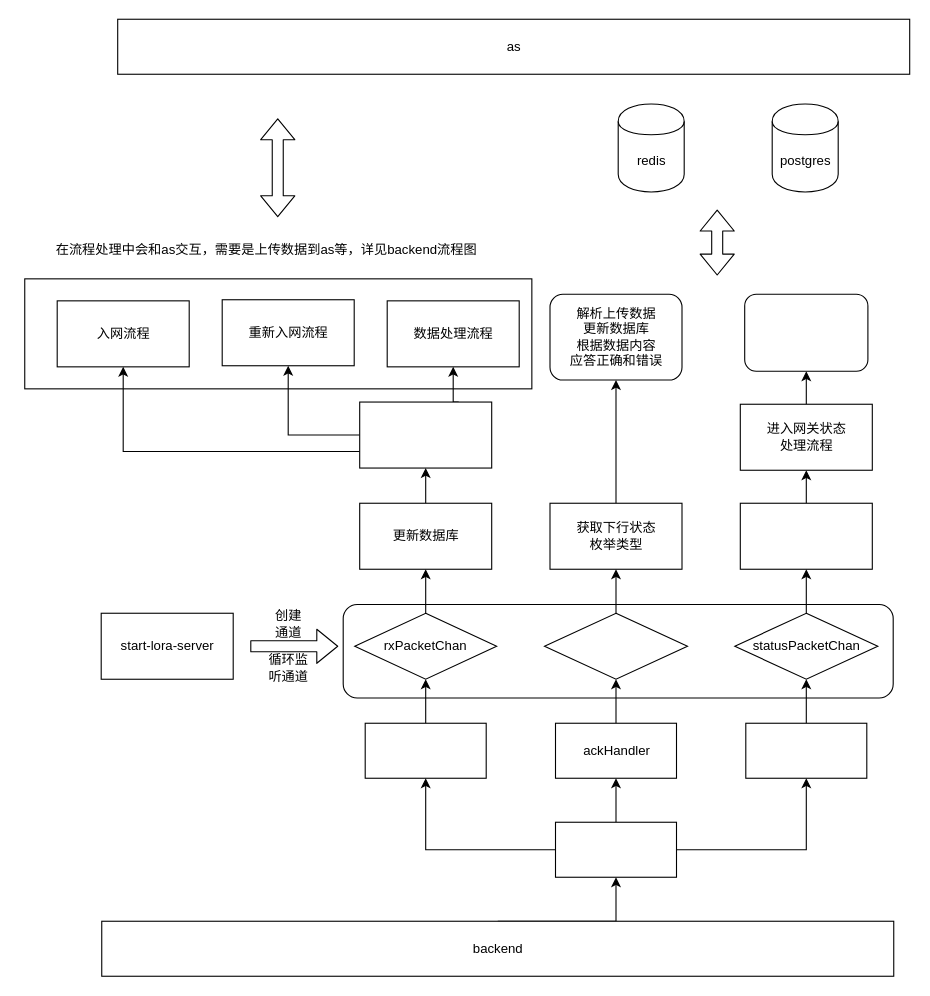
The diagram is 930 pixels wide and 996 high, and some of its shapes have lost their labels. Each missing label, with the centre of its shape:
downlinkTxAckChan: point (615, 645)
eventHandler: point (615, 849)
rxPacketHandler: point (425, 750)
statasPacketHandler: point (806, 750)
区分帧类型: point (425, 434)
更新网关状态 跟新数据库 等处理流程: point (806, 332)
获取网关ID: point (805, 535)
